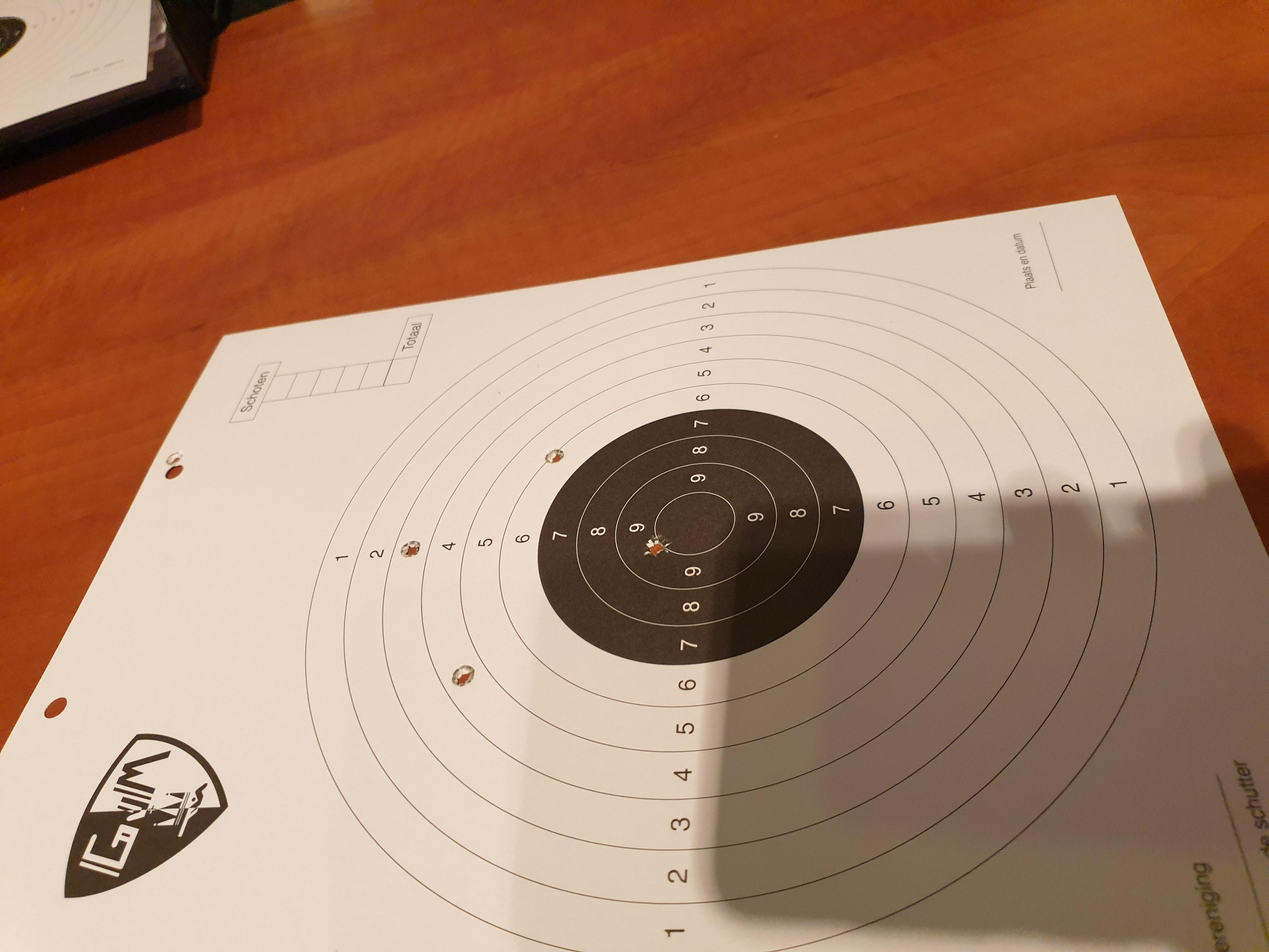hole: (443, 661, 475, 689), (392, 534, 425, 560), (639, 535, 668, 560), (541, 445, 566, 467), (165, 448, 188, 465)
